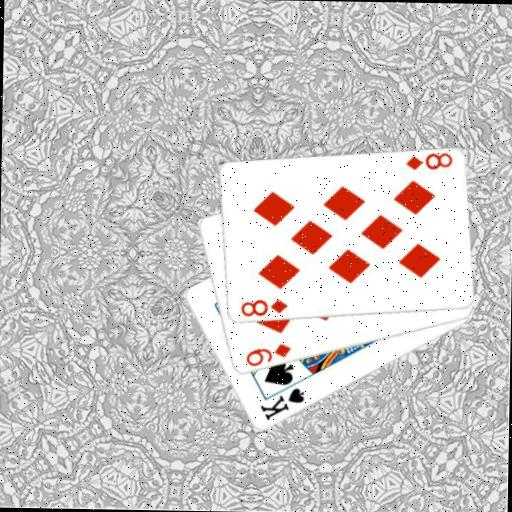8D: (238, 296, 289, 319), (402, 150, 453, 173)
9D: (243, 340, 293, 369)
KS: (257, 384, 307, 423)
